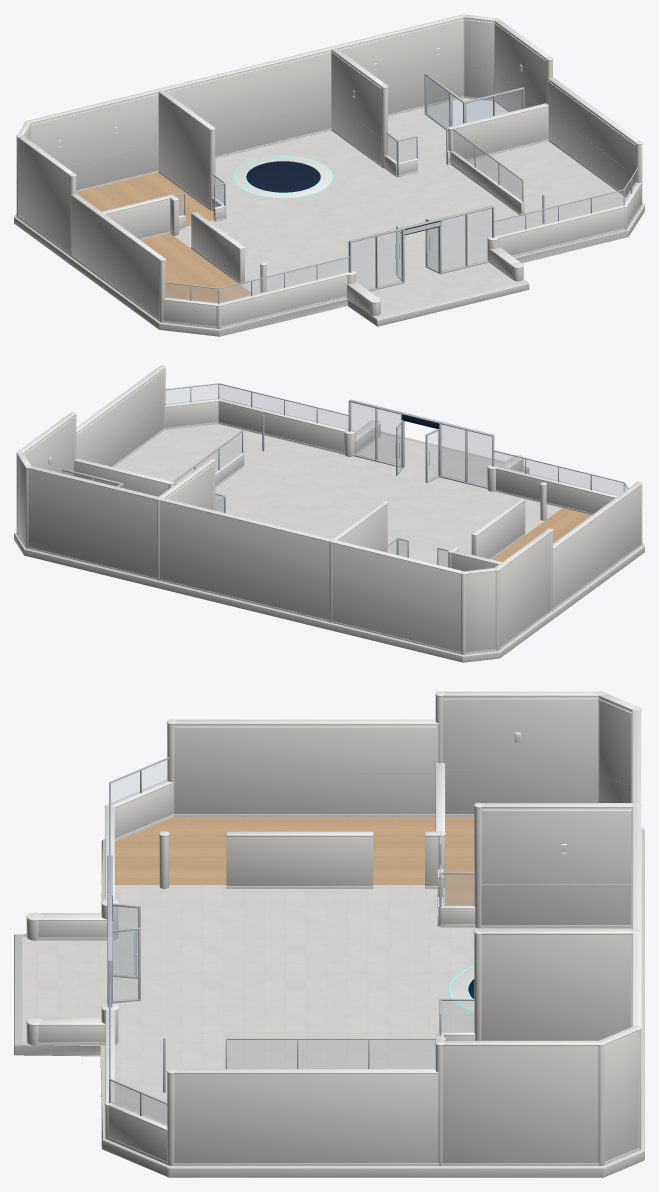
The model's file is office-shell-v01.glb.
The picture shows the model from 3 angles, top to bottom: view 1: azimuth 30°, elevation 25°; view 2: azimuth 150°, elevation 25°; view 3: azimuth 270°, elevation 25°; orthographic projection. The views are drawn at different scales.
Visible parts, largest first — view 1: Office_Floor_Stone, W_Rear, W_LobbyGlass, W_Side_L_Front, Office_Slab, W_Side_R_Front, W_Front_L, W_Front_R, W_Side_L_Rear, W_Cmd_L, W_Cmd_R, W_Side_R_Rear (+20 smaller); view 2: W_Rear, Office_Floor_Stone, W_LobbyGlass, W_Side_L_Front, Office_Slab, W_Front_R, W_Side_R_Front, W_Front_L, W_Side_L_Rear, W_Chamfer_RL, W_Chamfer_FR, W_Side_R_Rear (+10 smaller); view 3: Office_Floor_Stone, W_Side_L_Front, W_Side_R_Front, W_Side_R_Rear, W_Cmd_L, W_Side_L_Rear, W_Cmd_R, Office_Floor_Wood_break, Office_Slab, W_Break_Inner, W_Ops_Inner, W_Chamfer_RR (+20 smaller).
Part boxes in pixels (x1=…): Office_Floor_Stone: x1=174, y1=98, x2=625, y2=316; W_Rear: x1=28, y1=15, x2=463, y2=192; W_LobbyGlass: x1=348, y1=205, x2=494, y2=291; W_Side_L_Front: x1=70, y1=193, x2=163, y2=321; Office_Slab: x1=14, y1=203, x2=644, y2=336; W_Side_R_Front: x1=547, y1=77, x2=640, y2=197; W_Front_L: x1=218, y1=256, x2=350, y2=328; W_Front_R: x1=494, y1=189, x2=624, y2=257; W_Side_L_Rear: x1=17, y1=135, x2=74, y2=255; W_Cmd_L: x1=158, y1=90, x2=213, y2=208; W_Cmd_R: x1=331, y1=48, x2=386, y2=166; W_Side_R_Rear: x1=494, y1=19, x2=551, y2=111; W_Rear: x1=27, y1=465, x2=462, y2=654; Office_Floor_Stone: x1=114, y1=424, x2=561, y2=567; W_LobbyGlass: x1=348, y1=399, x2=494, y2=488; W_Side_L_Front: x1=552, y1=482, x2=641, y2=610; Office_Slab: x1=14, y1=431, x2=644, y2=662; W_Front_R: x1=218, y1=383, x2=348, y2=454; W_Side_R_Front: x1=76, y1=367, x2=164, y2=467; W_Front_L: x1=493, y1=450, x2=624, y2=514; W_Side_L_Rear: x1=495, y1=530, x2=551, y2=649; W_Chamfer_RL: x1=464, y1=568, x2=496, y2=654; W_Chamfer_FR: x1=164, y1=383, x2=219, y2=429; W_Side_R_Rear: x1=18, y1=413, x2=74, y2=475; Office_Floor_Stone: x1=22, y1=885, x2=631, y2=1124; W_Side_L_Front: x1=173, y1=719, x2=439, y2=816; W_Side_R_Front: x1=172, y1=1069, x2=439, y2=1165; W_Side_R_Rear: x1=441, y1=1040, x2=599, y2=1165; W_Cmd_L: x1=479, y1=803, x2=633, y2=928; W_Side_L_Rear: x1=441, y1=691, x2=599, y2=816; W_Cmd_R: x1=479, y1=929, x2=635, y2=1040; Office_Floor_Wood_break: x1=114, y1=817, x2=435, y2=884; Office_Slab: x1=14, y1=828, x2=644, y2=1177; W_Break_Inner: x1=226, y1=831, x2=439, y2=888; W_Ops_Inner: x1=225, y1=1038, x2=439, y2=1068; W_Chamfer_RR: x1=599, y1=1027, x2=639, y2=1164.
Bounding box in the file's own units: 16.32 × 2.82 × 12.22.
16 materials, 2 textured.
